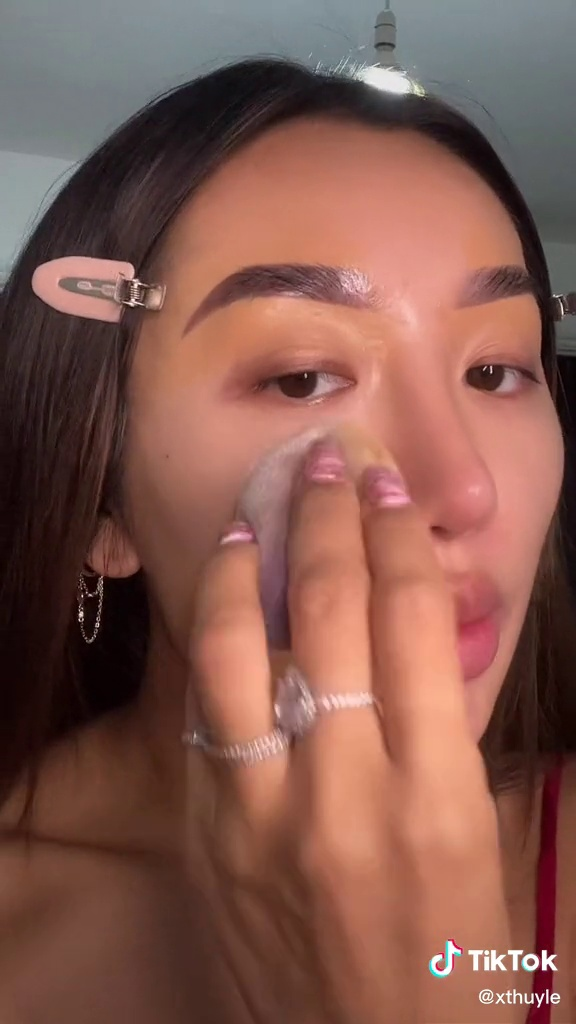train' :'yolo_data/train/images',: (229, 413, 400, 642)
